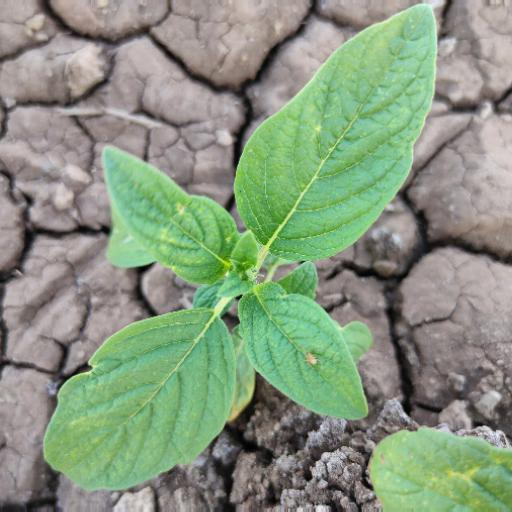crop: (29, 2, 443, 512)
